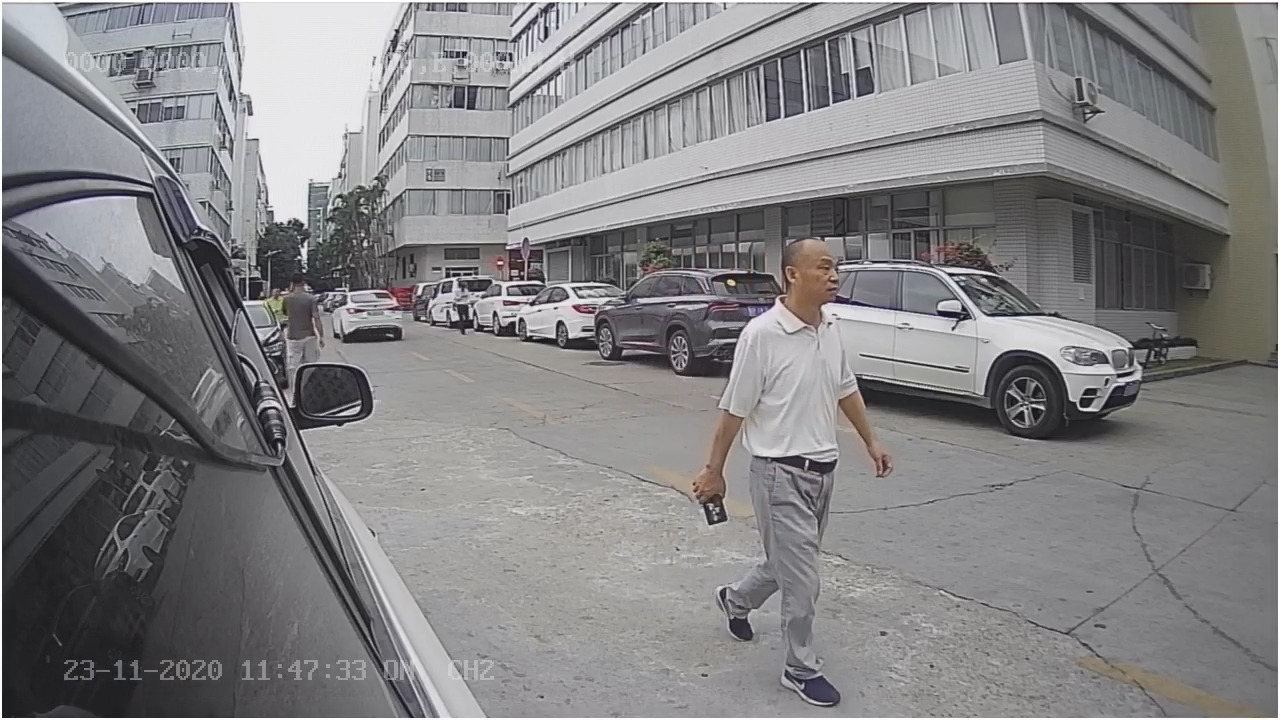person: (693, 232, 894, 710)
